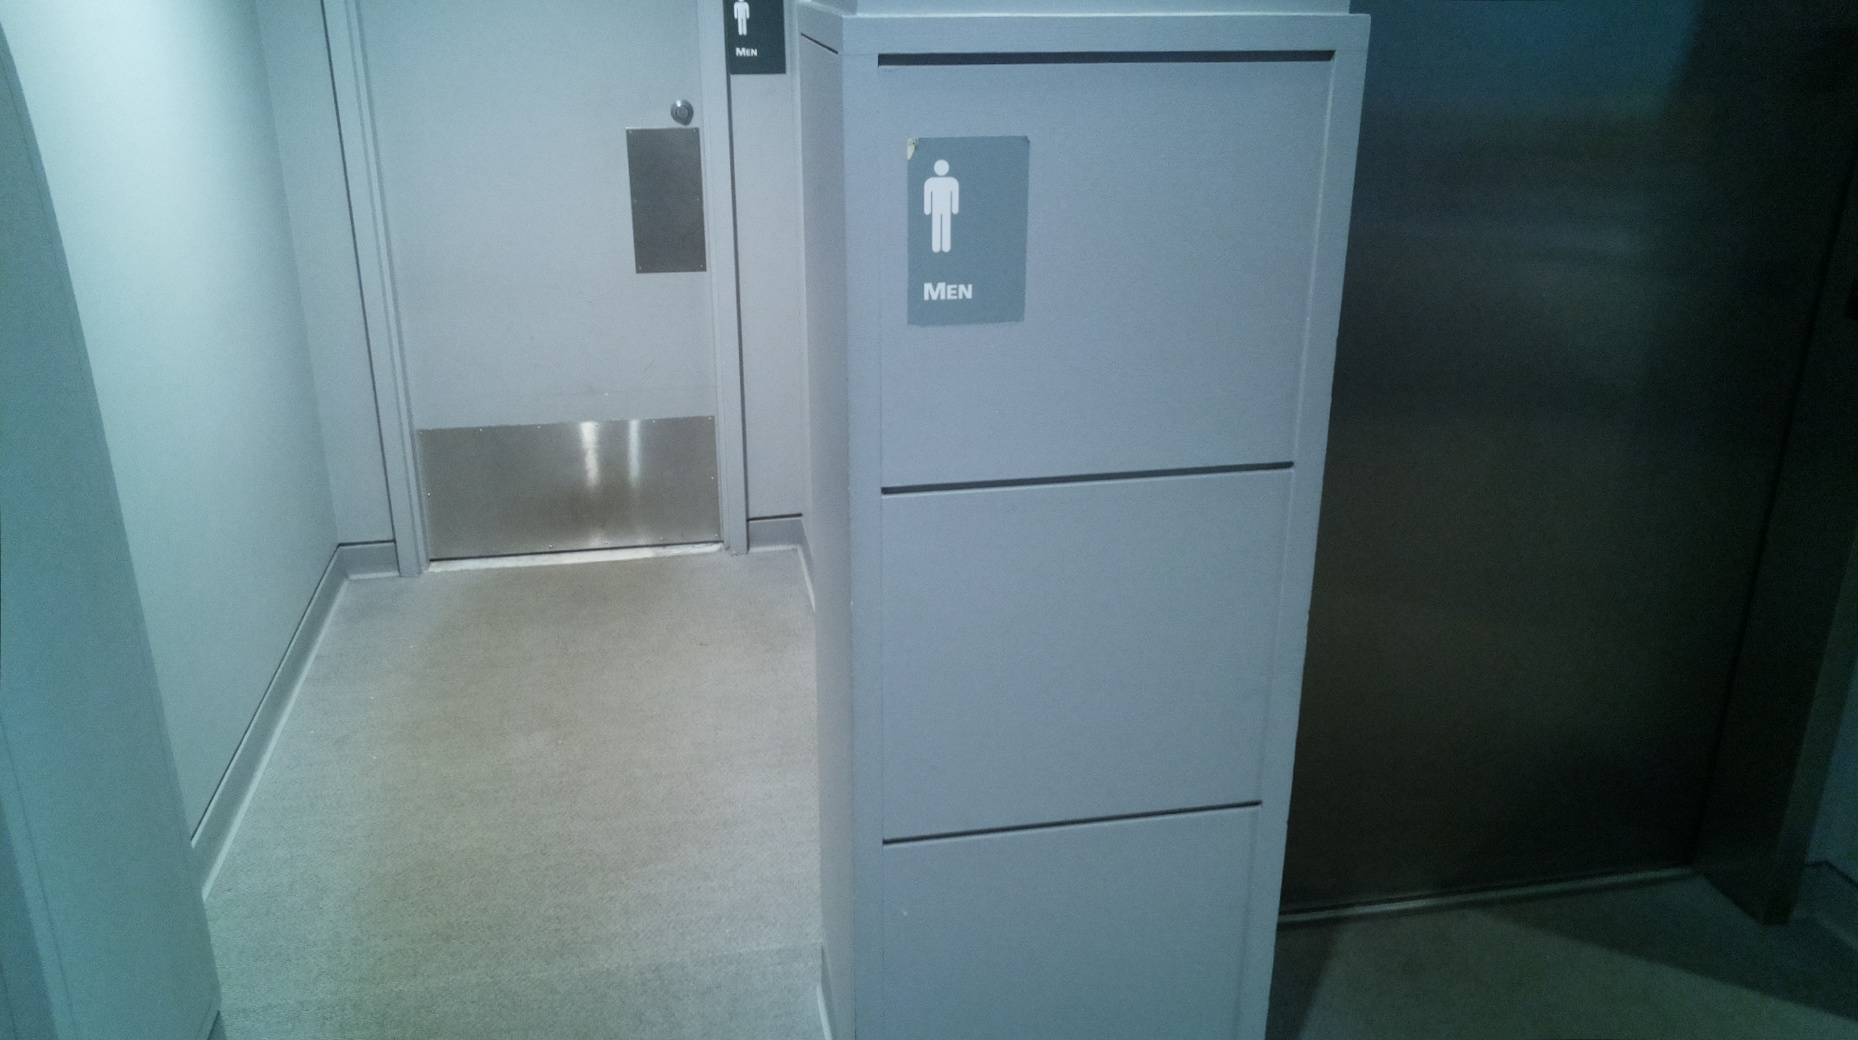bathroom sign: (895, 119, 1045, 338), (718, 1, 795, 82)
